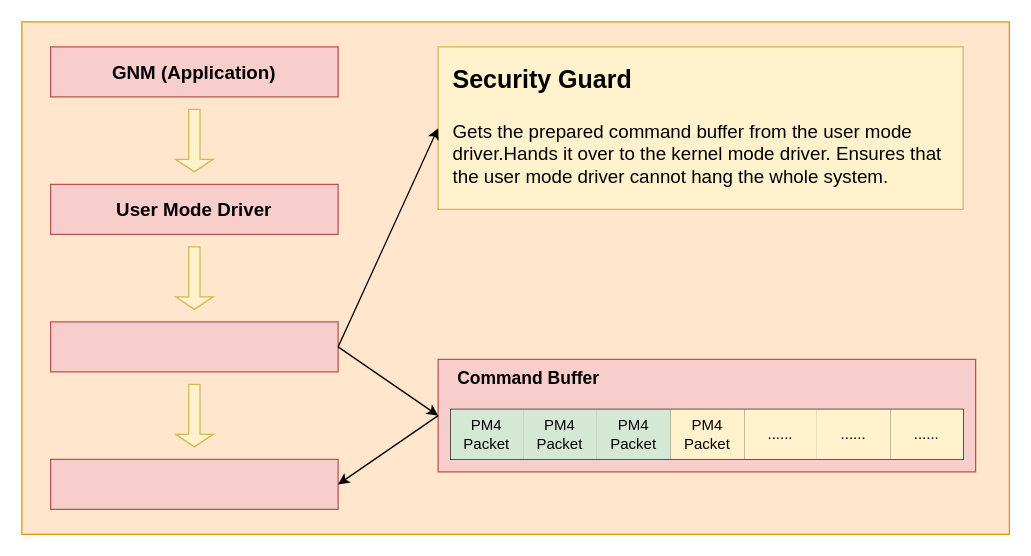
The diagram is 1031 pixels wide and 556 high, and some of its shapes have lost their labels. Each missing label, with the centre of its shape:
Kernel Mode Driver: the point at 193,483
Operating System: the point at 193,346
